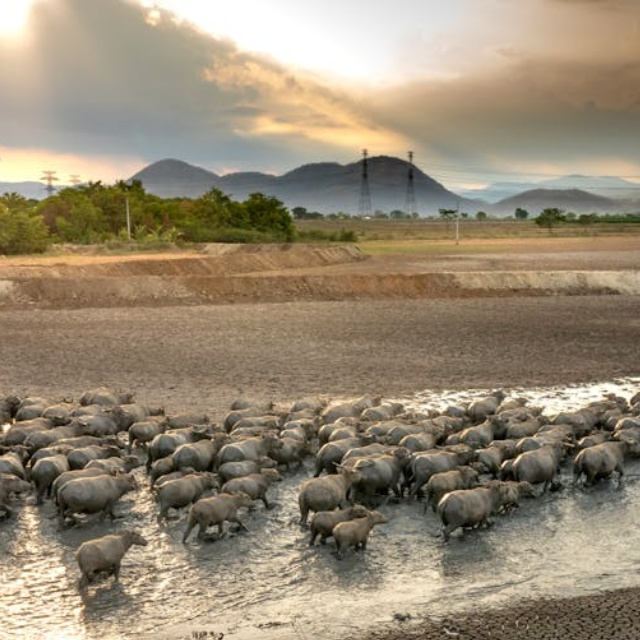网状裂隙: (0, 0, 593, 640), (12, 0, 631, 547), (239, 0, 640, 527)
